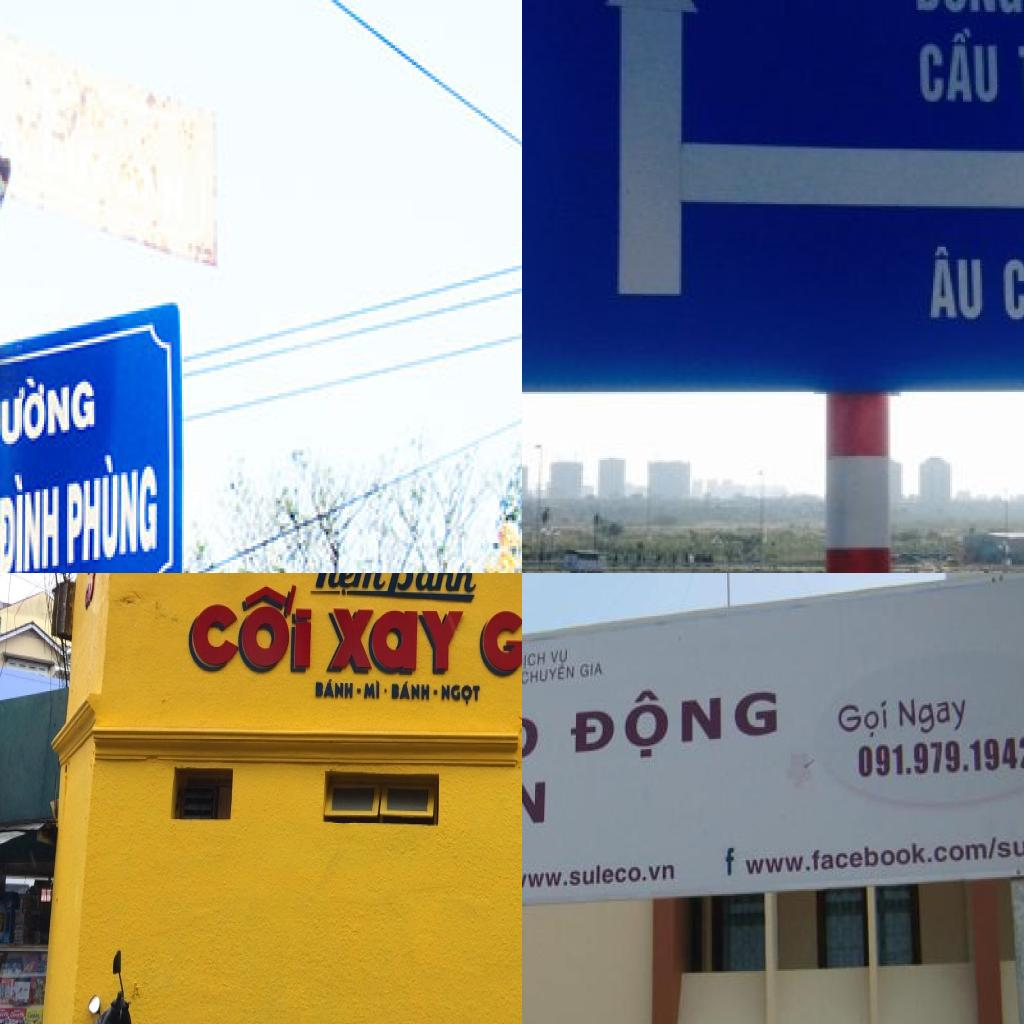text: (571, 674, 781, 768), (743, 831, 1024, 877), (183, 578, 316, 672), (67, 447, 159, 571), (0, 359, 98, 458), (326, 606, 467, 674), (905, 23, 1008, 110), (856, 734, 1024, 780), (0, 464, 63, 573), (922, 240, 991, 320), (522, 856, 675, 892), (477, 589, 522, 676), (897, 691, 974, 736), (385, 573, 480, 603), (837, 694, 888, 746), (997, 247, 1024, 326), (305, 573, 386, 599), (522, 664, 576, 688), (440, 682, 483, 707), (389, 679, 431, 702), (315, 676, 356, 699), (522, 650, 547, 670), (580, 660, 604, 680), (363, 678, 382, 702), (550, 648, 570, 668), (724, 845, 736, 877)
